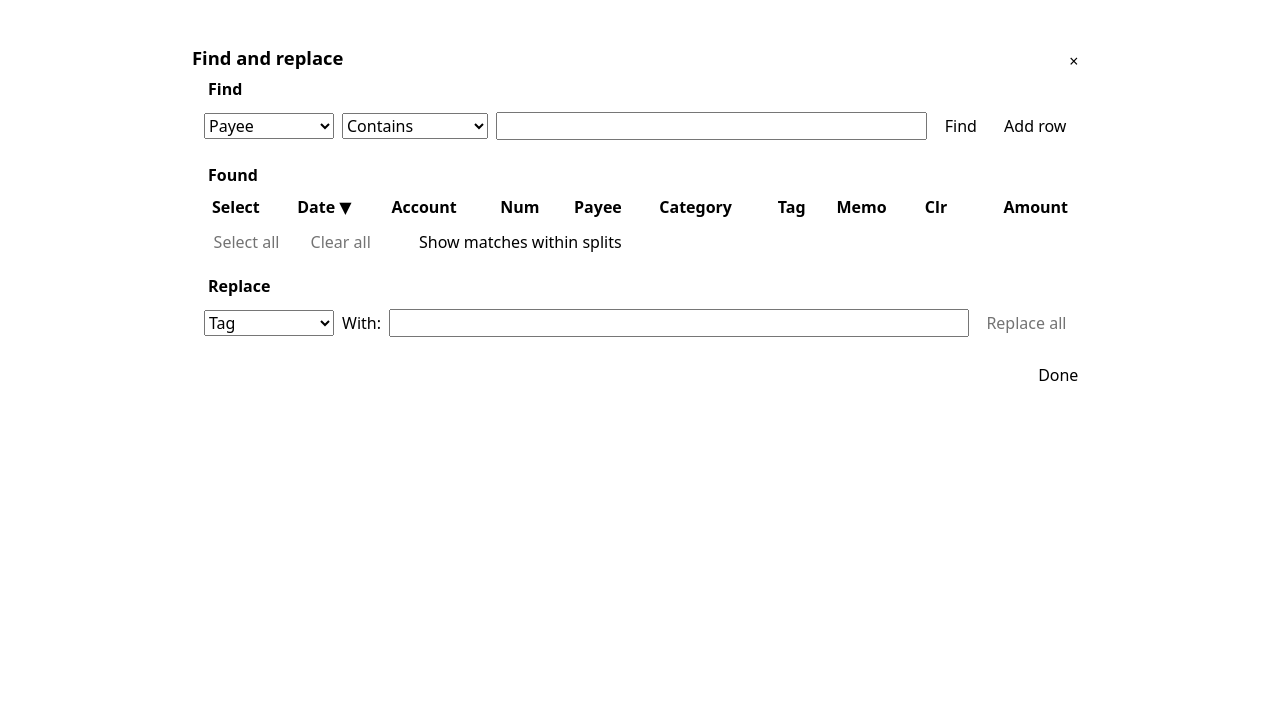
Scenario: Edit > Find/Replace (REG-170) › Find sends the row and checks every found row
The width and height of the screenshot is (1280, 720).
Type "netflix" into the field named "Find value 1" at (712, 126), box [496,112,927,140]
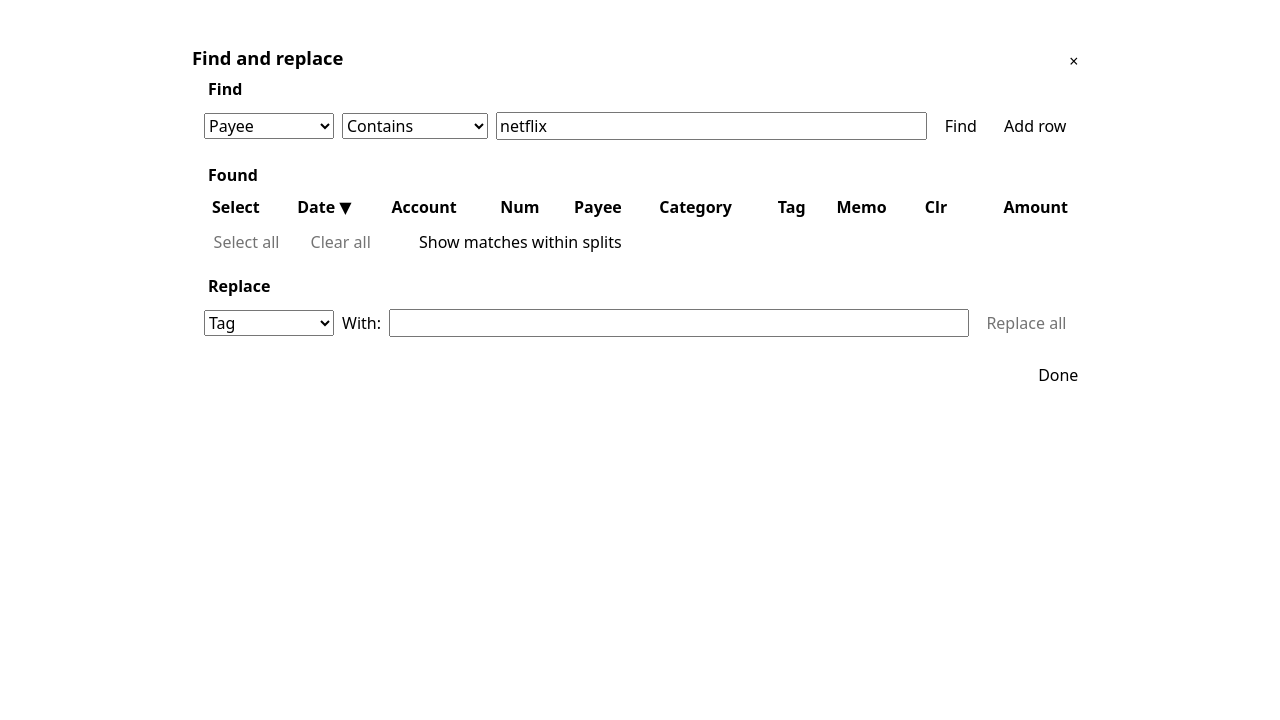
Click the button "Find" at (961, 126), box [935,112,987,139]
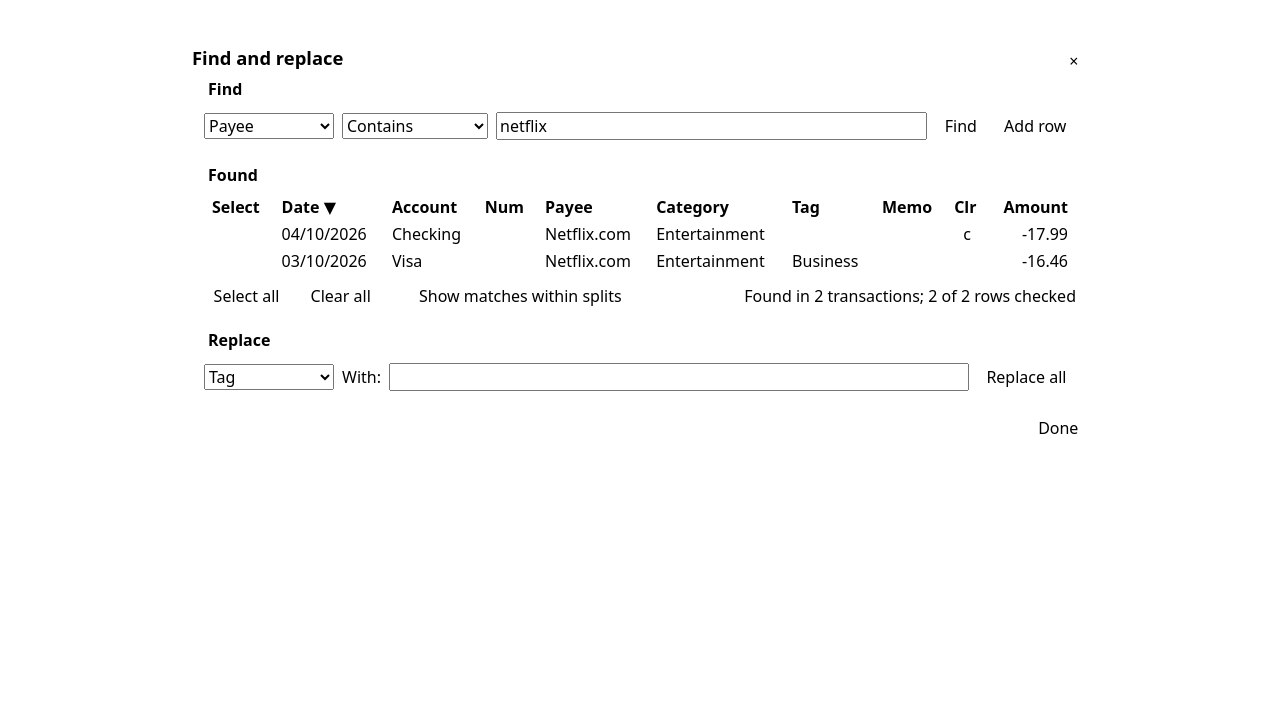
Expected: the text "Visa" is shown, [384,247,477,274]
Expected: the text "Found in 2 transactions; 2 of 2 rows checked" is shown, [744,284,1076,306]
Expected: the text "-17.99" is shown, [988,221,1076,247]
